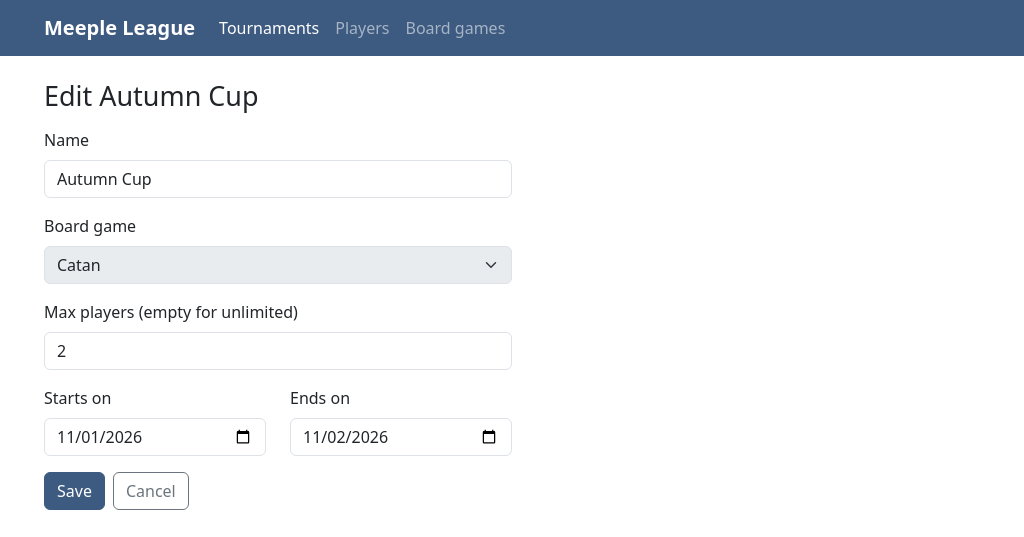
Test: tournaments › locks the board game once the tournament left draft, but still submits it
This screenshot has width=1024, height=537.
expect the dropdown labelled "Board game" is disabled: met, box x1=44 y1=246 x2=512 y2=284
Click the button "Save" at [74, 491], box x1=44 y1=472 x2=105 y2=510
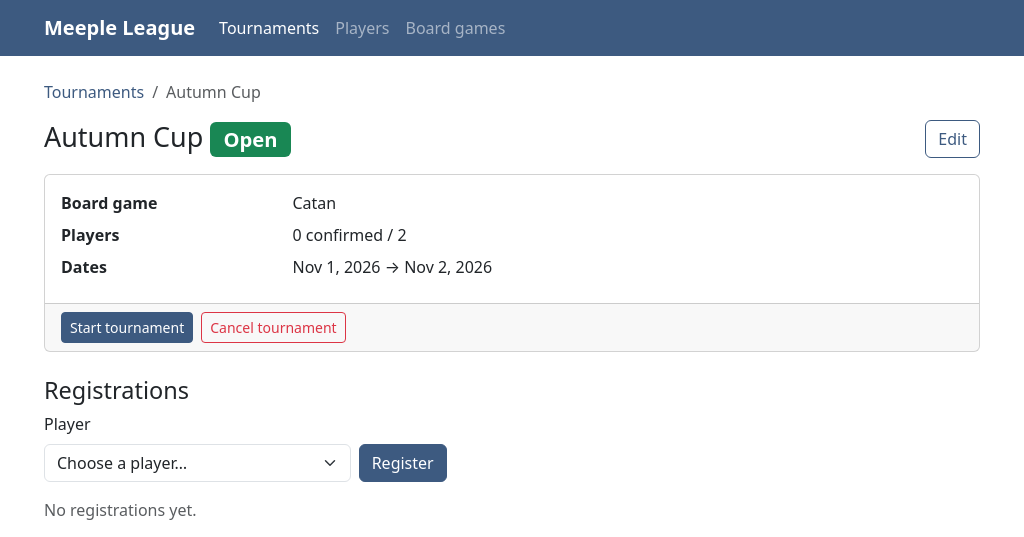
expect the heading "Registrations" is shown: met, box x1=44 y1=374 x2=189 y2=406
